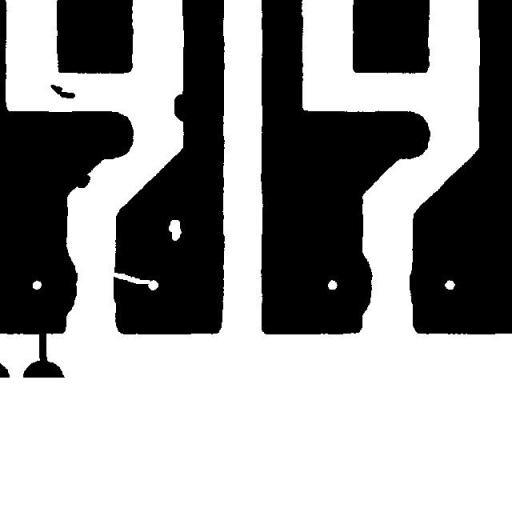copper: (42, 76, 82, 106)
open: (100, 264, 158, 291)
pin-hole: (161, 212, 189, 248)
short: (32, 320, 54, 370)
spur: (166, 86, 198, 129), (66, 166, 98, 196)
